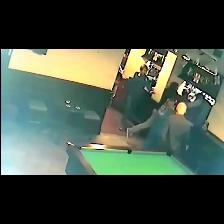person: (120, 65, 150, 130), (126, 99, 174, 139), (162, 103, 192, 157)
